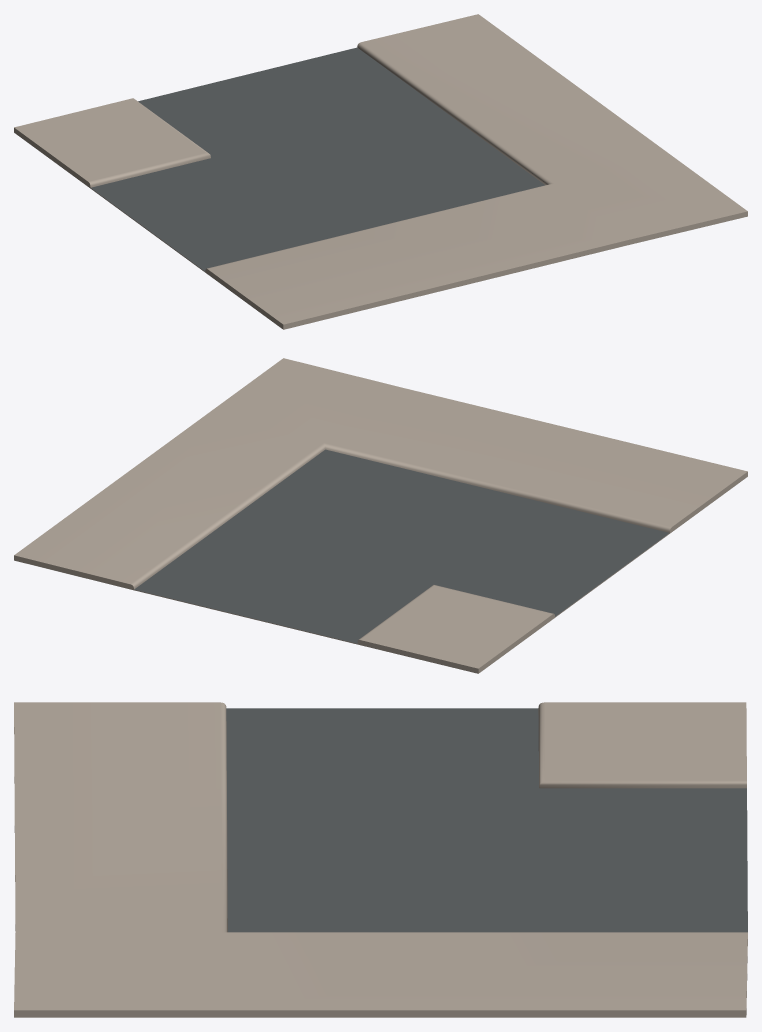
The model's file is KA_route_90d.fbx.
3 views of the same model, one above another, from view 1: azimuth 30°, elevation 25°; view 2: azimuth 150°, elevation 25°; view 3: azimuth 270°, elevation 25° (orthographic). The views are drawn at different scales.
Parts seen in each view (by area): view 1: Box004; view 2: Box004; view 3: Box004.
Part boxes in pixels (<box>): Box004: <box>14,14,747,329</box>; Box004: <box>14,358,747,673</box>; Box004: <box>14,702,747,1017</box>.
Bounding box in the file's own units: 1858 × 19.81 × 1871.
